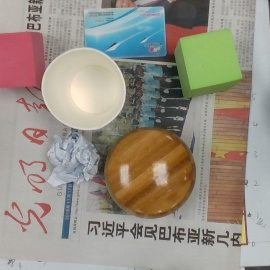card: (83, 6, 168, 59)
chess: (105, 130, 196, 218)
cup: (40, 48, 125, 131)
